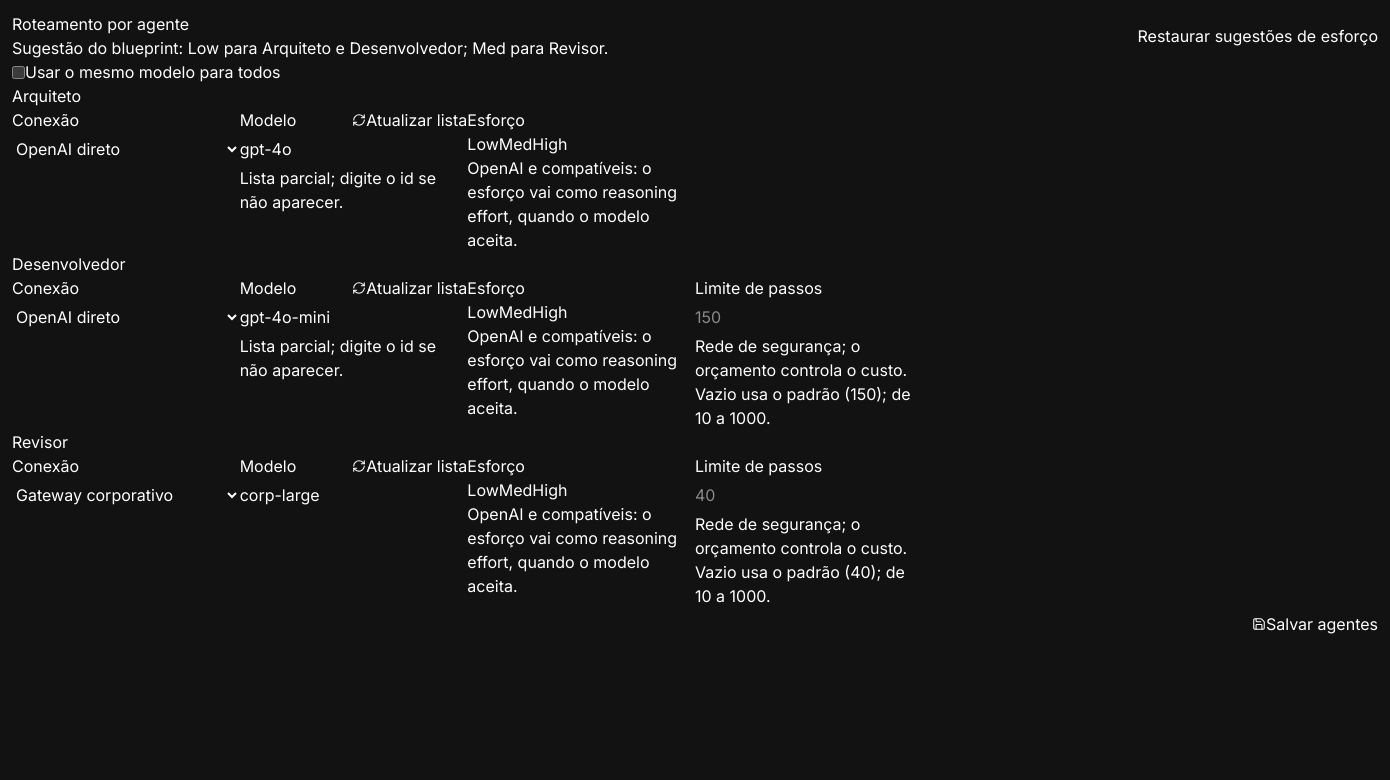
AgentsForm: lista de modelos › lista truncada mostra aviso de lista parcial e continua filtrável
Click the dropdown named "Modelo do".
click(354, 149)  # box [240, 132, 467, 166]
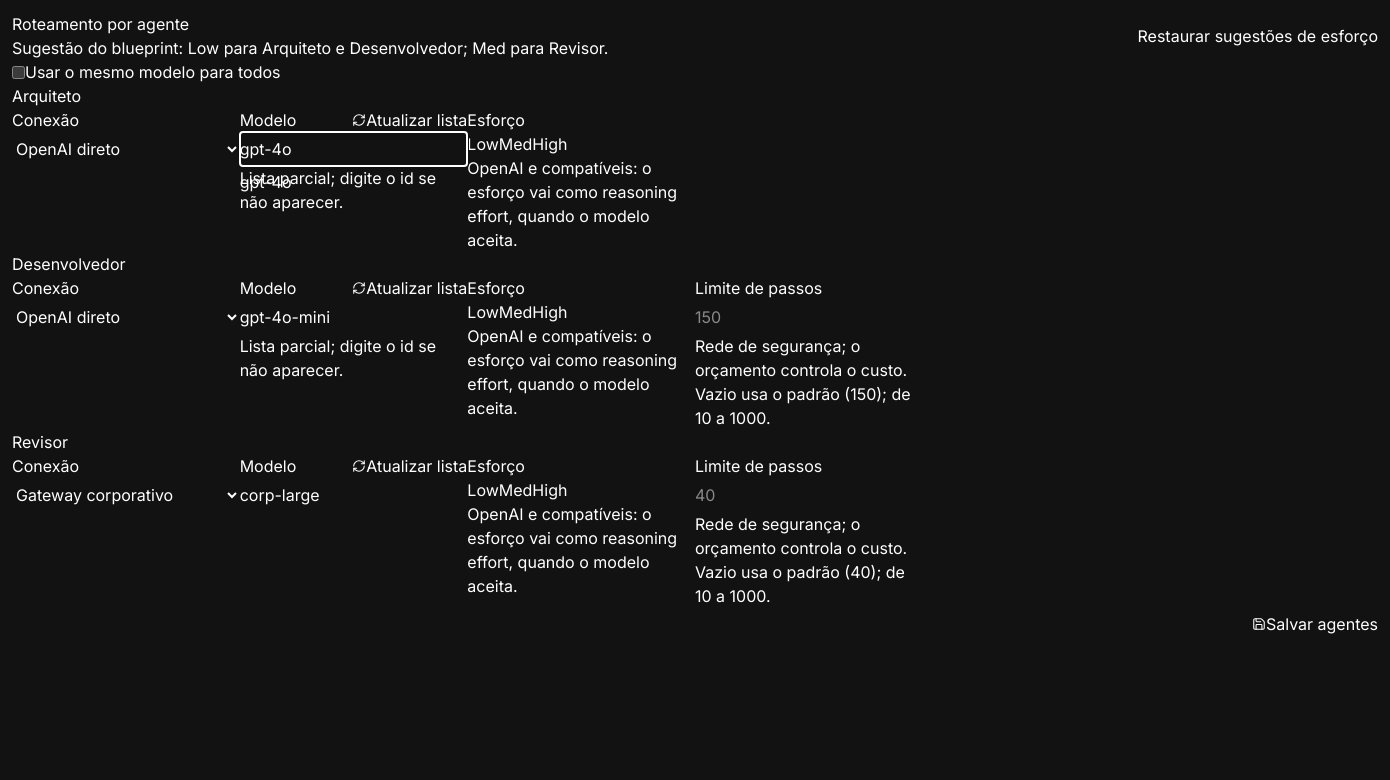
Expected: the text "Lista parcial; digite o id se não aparecer." next to "gpt-4o" is shown, [240, 168, 436, 212]
Expected: the number of options is 1, [240, 172, 292, 192]
Replace the text in the dropdown named "Modelo do Arquiteto" with "zz" at (354, 149), box [240, 132, 467, 166]
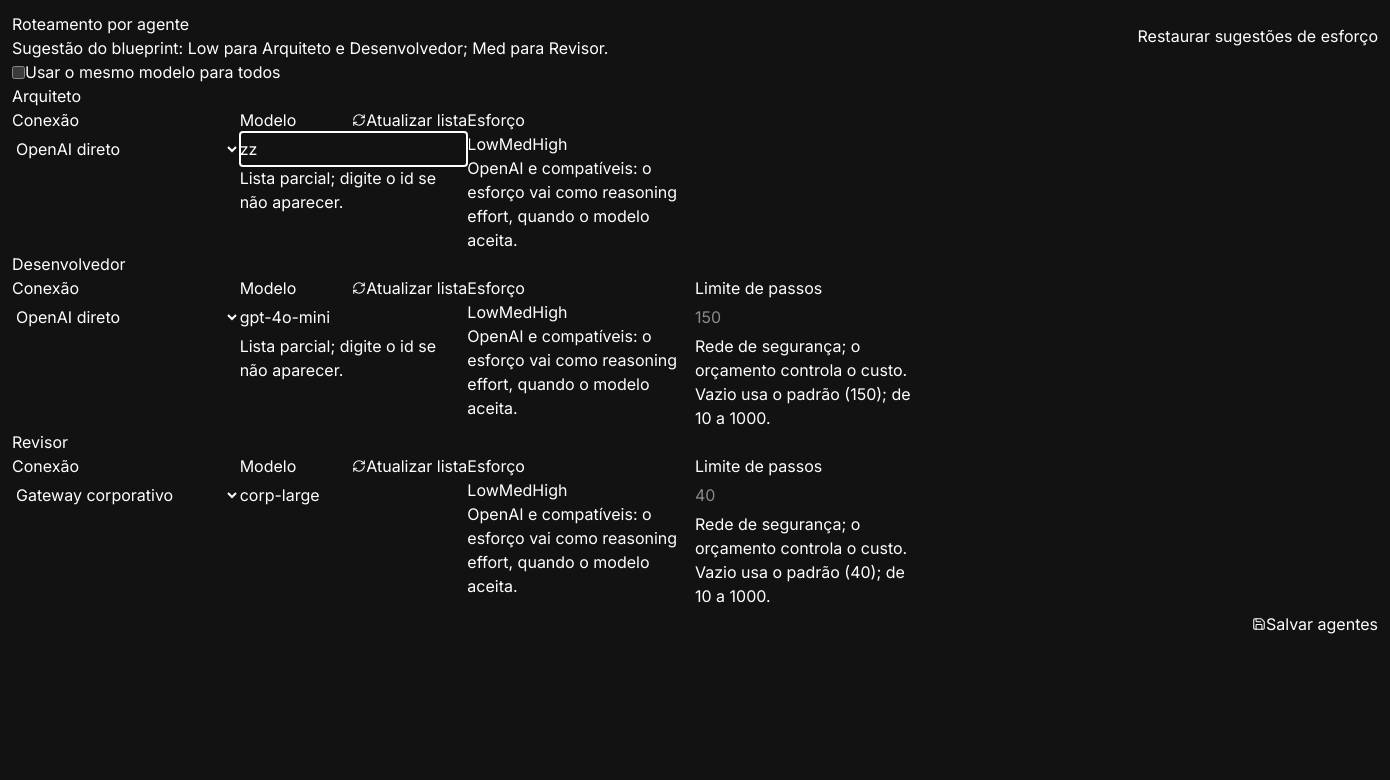
Expected: the list is gone
